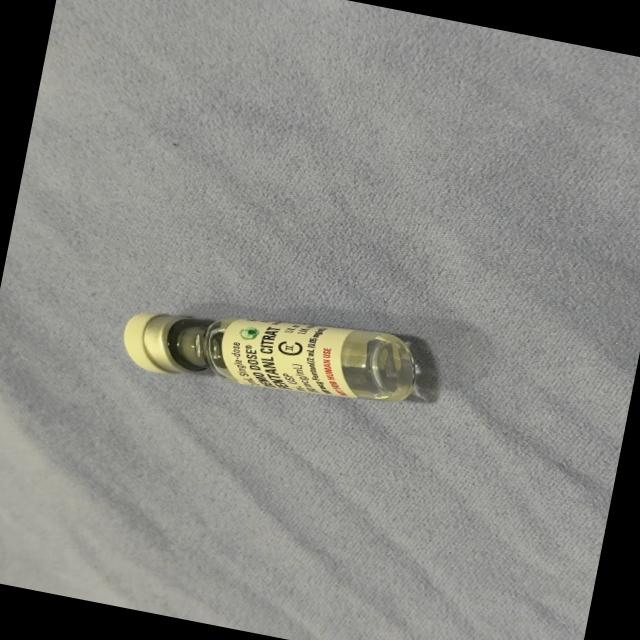fentanl_citrat: (123, 285, 421, 419)
